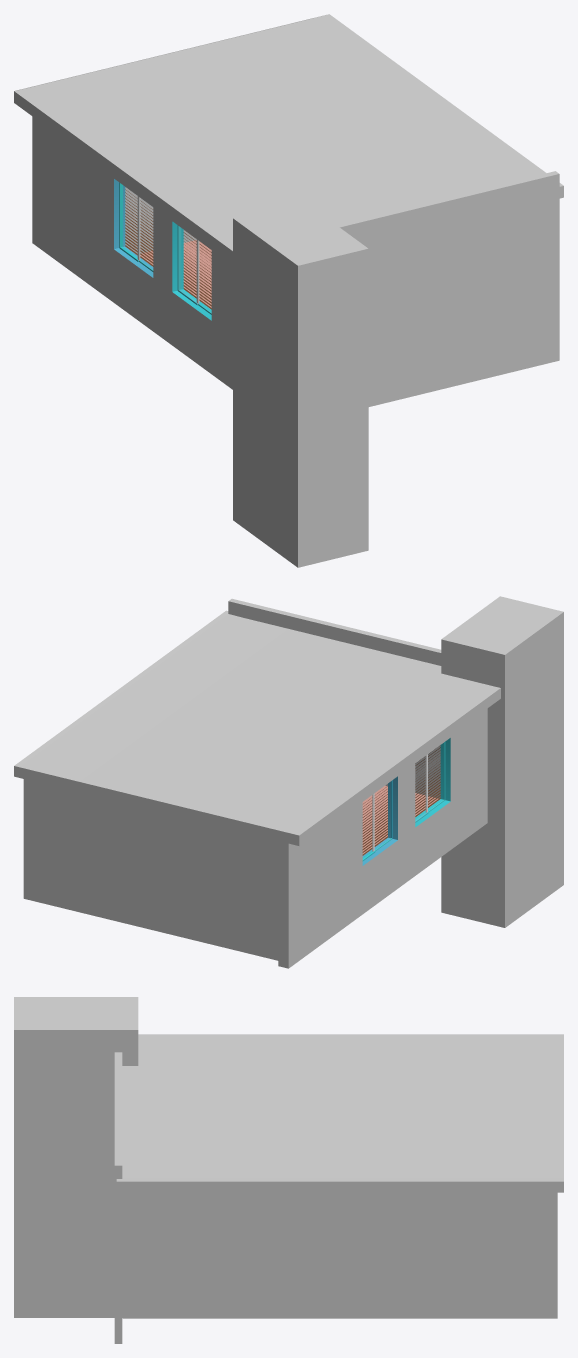
Rendered from museo2.glb.
3 renders of one model, top to bottom at view 1: azimuth 30°, elevation 25°; view 2: azimuth 150°, elevation 25°; view 3: azimuth 270°, elevation 25°, orthographic. The views are drawn at different scales.
Visible parts, largest first — view 1: Decke, Würfel.1, Würfel, Wand_Fenster, Wand, Würfel.1_2, Würfel.5_2, Würfel.4_3, Würfel.5_26_1, Würfel.5_21; view 2: Decke, Wand, Würfel.1, Wand_Fenster, Würfel, Würfel.5_2, Würfel.4_3, Würfel.5_26_1, Würfel.5_21; view 3: Decke, Wand, Würfel.1, Würfel.
Part boxes in pixels (left/top/right/bottom): Decke: left=14, top=14, right=563, bottom=262; Würfel.1: left=233, top=201, right=368, bottom=567; Würfel: left=336, top=171, right=559, bottom=406; Wand_Fenster: left=32, top=116, right=232, bottom=389; Wand: left=140, top=240, right=211, bottom=308; Würfel.1_2: left=125, top=187, right=196, bottom=253; Würfel.5_2: left=172, top=221, right=211, bottom=320; Würfel.4_3: left=114, top=179, right=153, bottom=277; Würfel.5_26_1: left=125, top=189, right=153, bottom=266; Würfel.5_21: left=183, top=230, right=211, bottom=309; Decke: left=14, top=610, right=500, bottom=845; Wand: left=23, top=779, right=438, bottom=960; Würfel.1: left=441, top=596, right=563, bottom=927; Wand_Fenster: left=278, top=708, right=487, bottom=968; Würfel: left=228, top=598, right=441, bottom=798; Würfel.5_2: left=415, top=738, right=450, bottom=827; Würfel.4_3: left=362, top=776, right=397, bottom=865; Würfel.5_26_1: left=362, top=786, right=387, bottom=855; Würfel.5_21: left=415, top=747, right=440, bottom=816; Decke: left=116, top=1034, right=563, bottom=1192; Wand: left=122, top=1192, right=557, bottom=1318; Würfel.1: left=14, top=997, right=138, bottom=1317; Würfel: left=114, top=1052, right=122, bottom=1343.
Bounding box in the file's own units: 0.1945 × 0.1755 × 0.3037.
